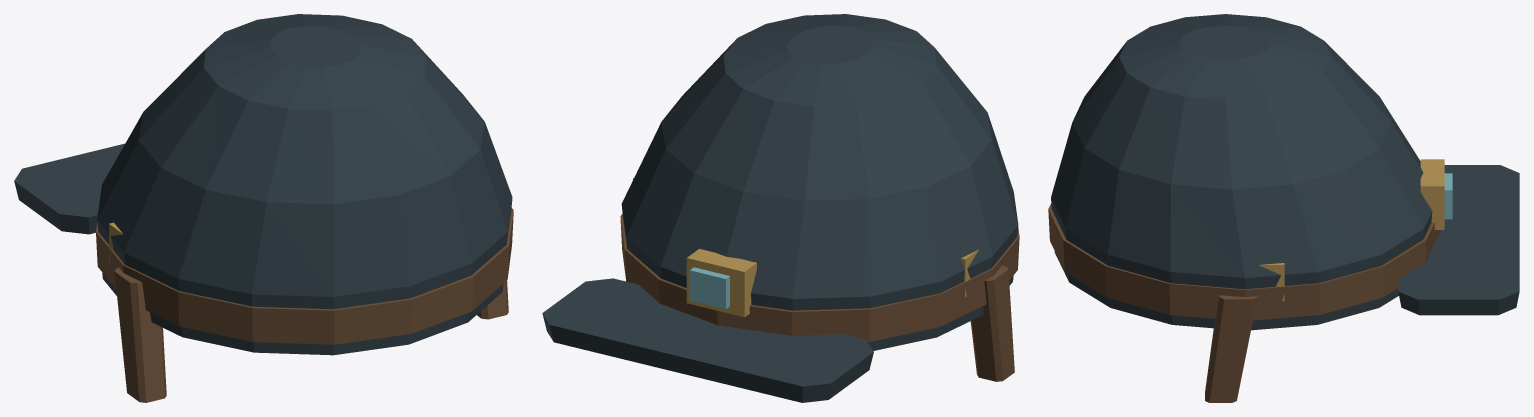
File: visual-far.glb
The picture shows the model from 3 angles, left to right: view 1: azimuth 30°, elevation 25°; view 2: azimuth 150°, elevation 25°; view 3: azimuth 270°, elevation 25°; orthographic projection. The views are drawn at different scales.
Visible parts, largest first — view 1: 现有帽子轮廓; view 2: 现有帽子轮廓; view 3: 现有帽子轮廓.
Boxes of the visible parts, x1,y1,x2,y2 form: 现有帽子轮廓: (14, 14, 513, 402); 现有帽子轮廓: (542, 14, 1019, 402); 现有帽子轮廓: (1048, 14, 1519, 402).
Bounding box in the file's own units: 0.246 × 0.192 × 0.295.
4 materials, 4 textured.
